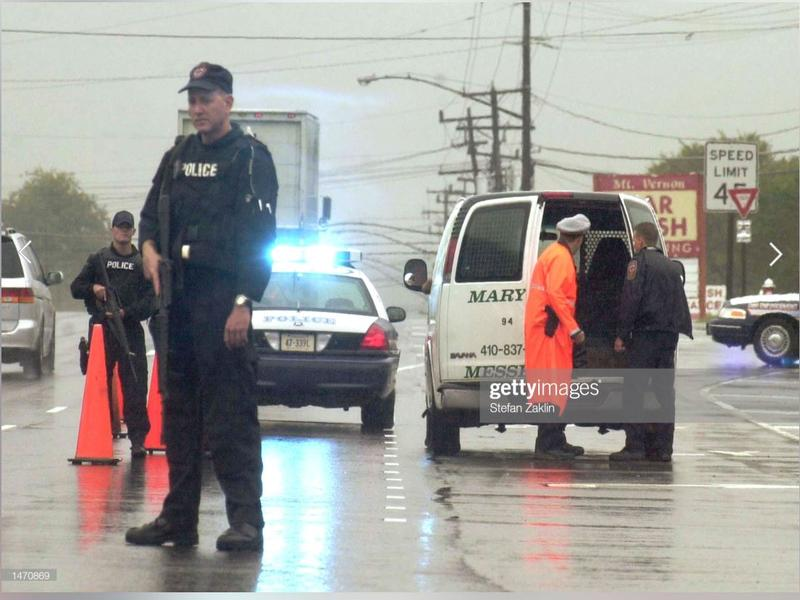Cone: (69, 323, 122, 467)
